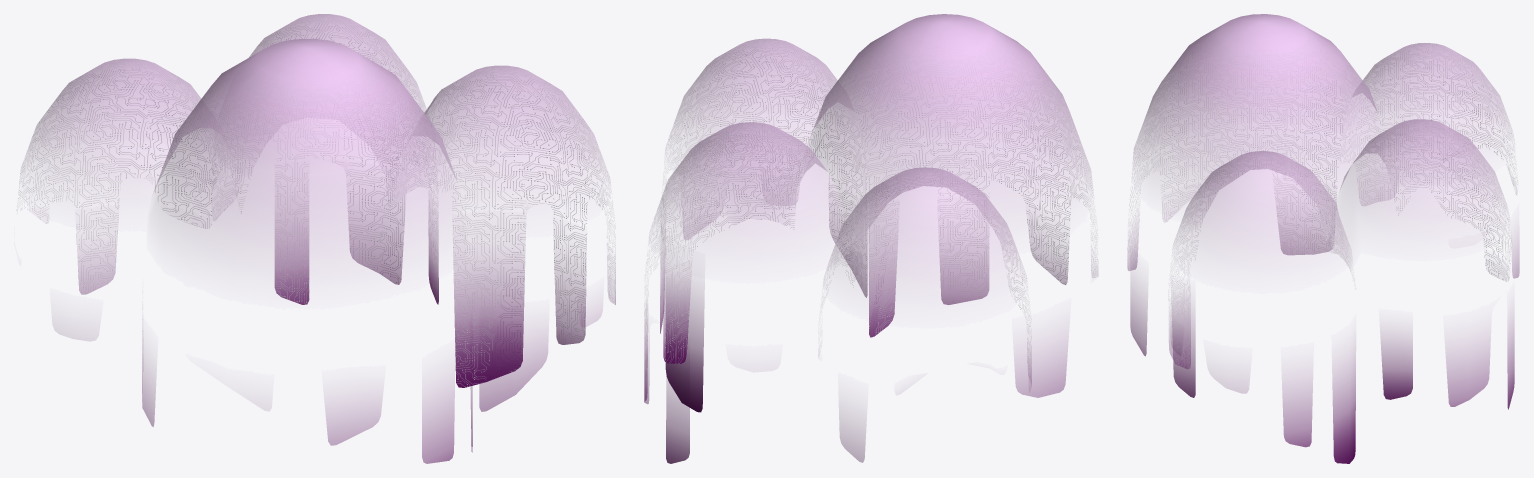
File: pm-vip-domes-outline.glb
The picture shows the model from 3 angles, left to right: view 1: azimuth 30°, elevation 25°; view 2: azimuth 150°, elevation 25°; view 3: azimuth 270°, elevation 25°; orthographic projection. The views are drawn at different scales.
Visible parts, largest first — view 1: VIP_Domes_Outline; view 2: VIP_Domes_Outline; view 3: VIP_Domes_Outline.
Boxes of the visible parts, box(x1,y1,x2,y2) form: VIP_Domes_Outline: box(16, 14, 615, 463); VIP_Domes_Outline: box(644, 14, 1098, 463); VIP_Domes_Outline: box(1127, 14, 1519, 463).
Bounding box in the file's own units: 66.52 × 58.23 × 58.85.
2 materials, 2 textured.
